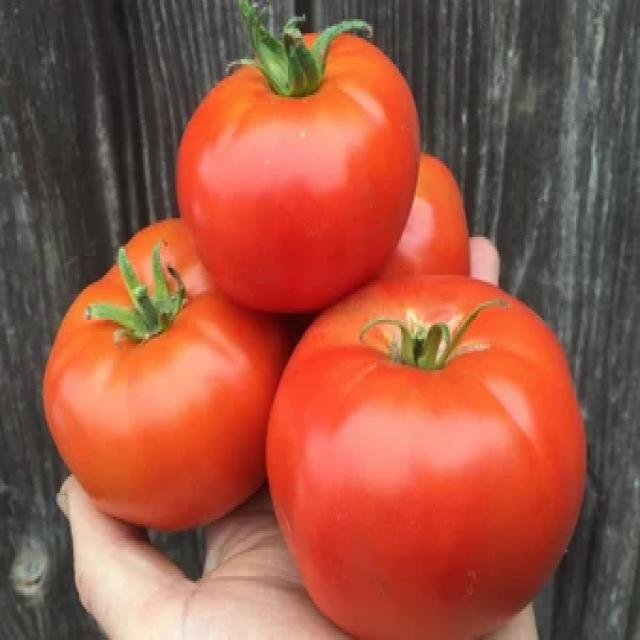tomatoes: (270, 278, 586, 640), (44, 217, 268, 526), (175, 30, 416, 314)
